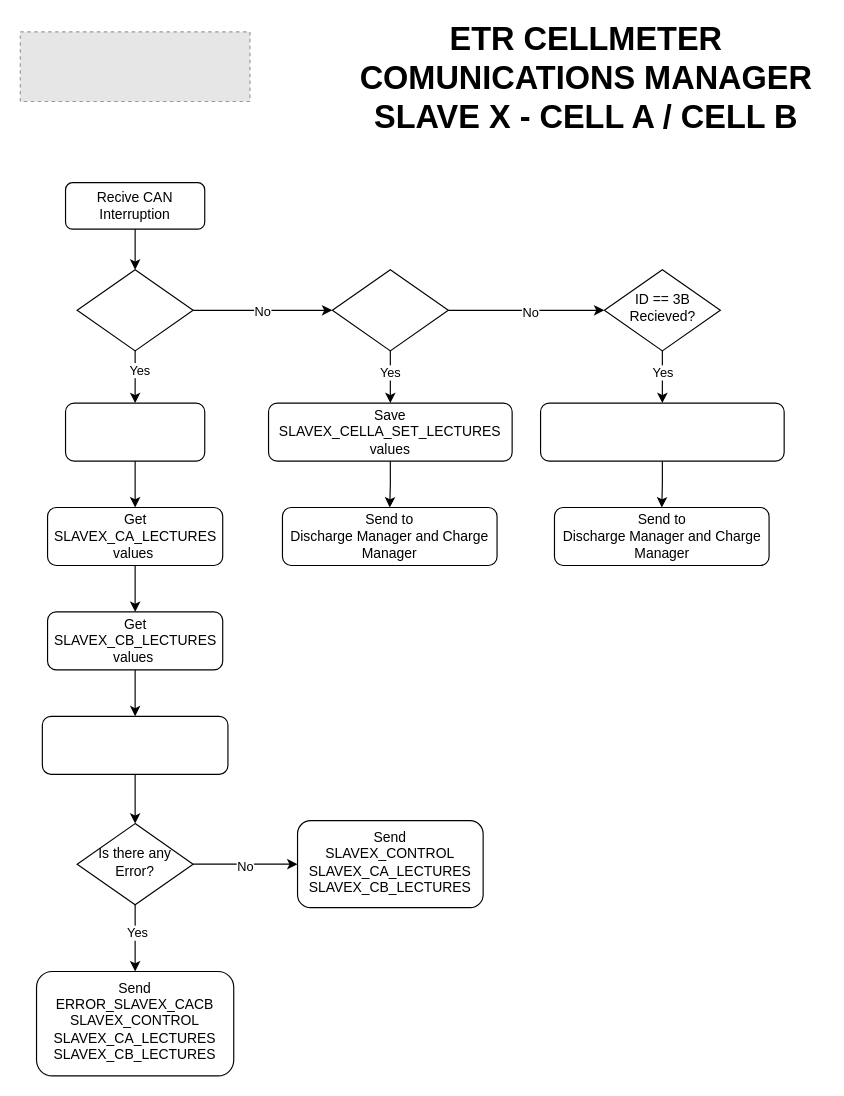
Image size: 844x1096. Some labels were removed from this diagram. Grey dashed boxes stand in for pictures. The centre of each missing label's shape, as x and y in pixels:
Get ERROR_SLAVEX_CACB values: (x=134, y=744)
Get SLAVEX_CONTROL values: (x=134, y=431)
ID == 19 Recieved?: (x=134, y=310)
ID == 3A Recieved?: (x=389, y=310)
Save SLAVEX_CELLB_SET_LECTURES values: (x=661, y=431)
